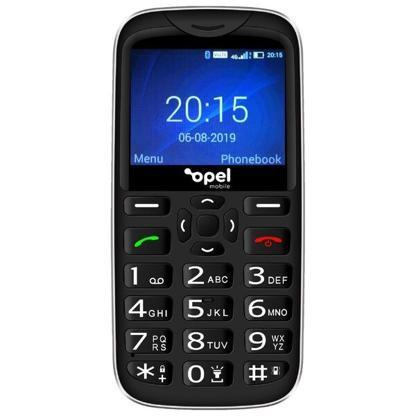not trash: (104, 4, 311, 410)
